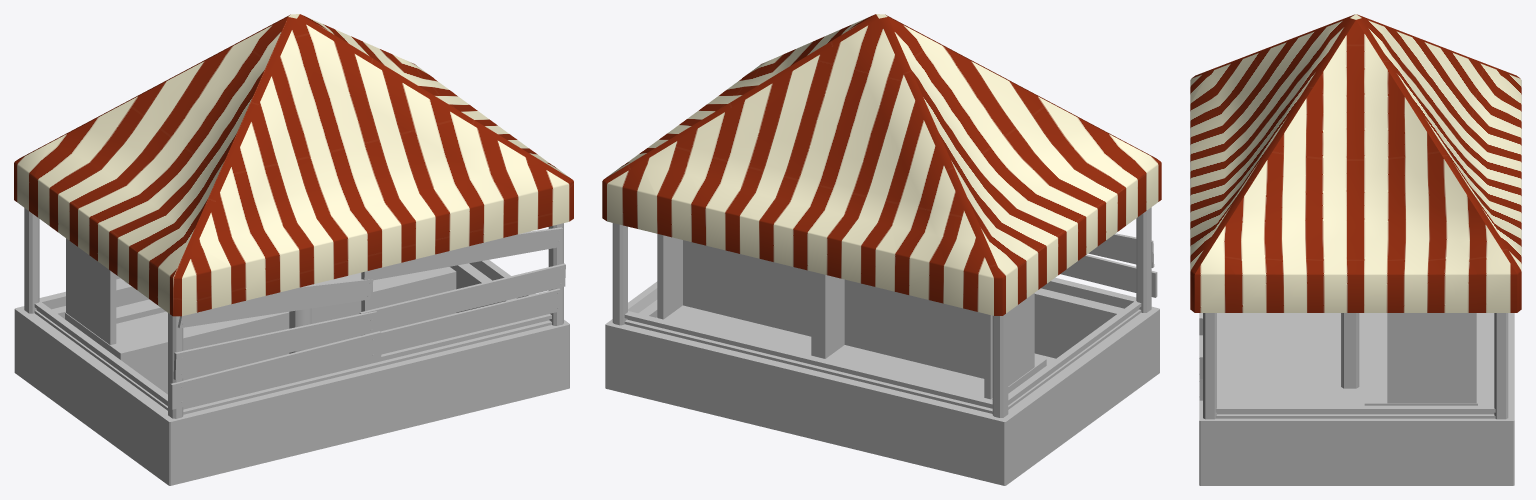
Rendered from GameBooth4.FBX.
The picture shows the model from 3 angles, left to right: view 1: azimuth 30°, elevation 25°; view 2: azimuth 150°, elevation 25°; view 3: azimuth 270°, elevation 25°; orthographic projection.
Parts seen in each view (by area): view 1: Top1, Base, Plank1, Game3; view 2: Top1, Base, Game3, Plank1; view 3: Top1, Base, Game3.
Boxes of the visible parts, <box> form: Top1: <box>14,14,573,353</box>; Base: <box>14,208,569,485</box>; Plank1: <box>170,227,565,409</box>; Game3: <box>65,238,456,394</box>; Top1: <box>602,14,1161,315</box>; Base: <box>605,207,1159,485</box>; Game3: <box>656,234,1046,399</box>; Plank1: <box>1060,233,1157,297</box>; Top1: <box>1190,14,1521,388</box>; Base: <box>1199,313,1514,485</box>; Game3: <box>1364,313,1477,405</box>.
Bounding box in the file's own units: 582 × 505 × 409.
